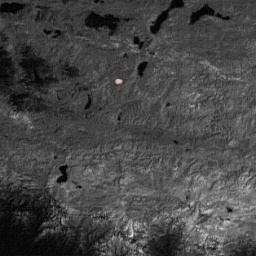Target: (114, 78, 124, 85)
